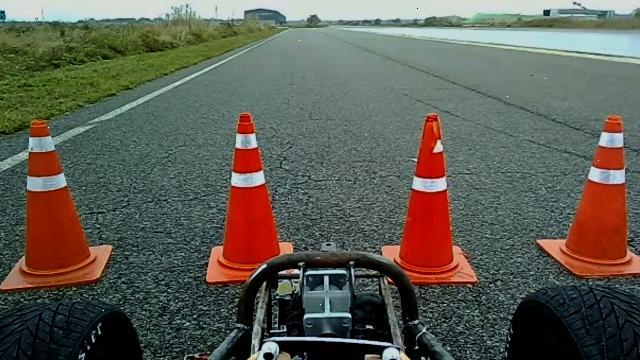red cone: (0, 117, 112, 292), (536, 114, 640, 279), (382, 113, 478, 286), (205, 111, 295, 286)
